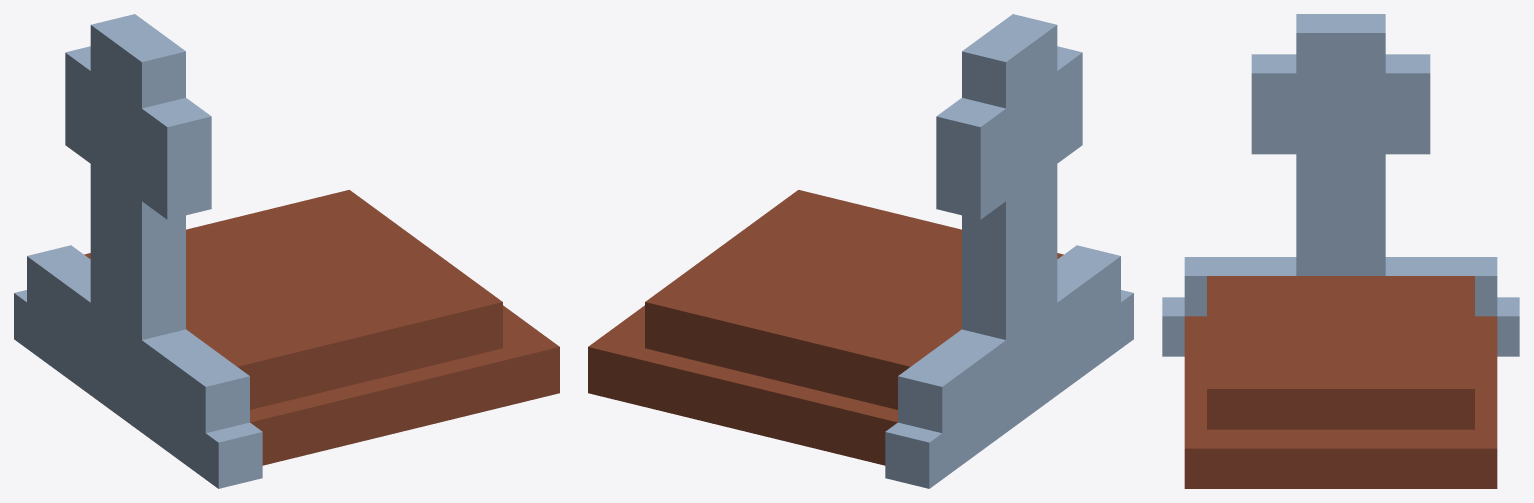
File: tomb-02.glb
3 views of the same model, side by side, from view 1: azimuth 30°, elevation 25°; view 2: azimuth 150°, elevation 25°; view 3: azimuth 270°, elevation 25° (orthographic). The views are drawn at different scales.
Parts seen in each view (by area): view 1: generated(Clone); view 2: generated(Clone); view 3: generated(Clone).
Part boxes in pixels (x1,y1,x2,y2): generated(Clone): [14, 14, 559, 488]; generated(Clone): [588, 14, 1133, 488]; generated(Clone): [1162, 14, 1519, 488].
Bounding box in the file's own units: 8 × 8 × 8.
Materials: 1 (1 with a texture image).
